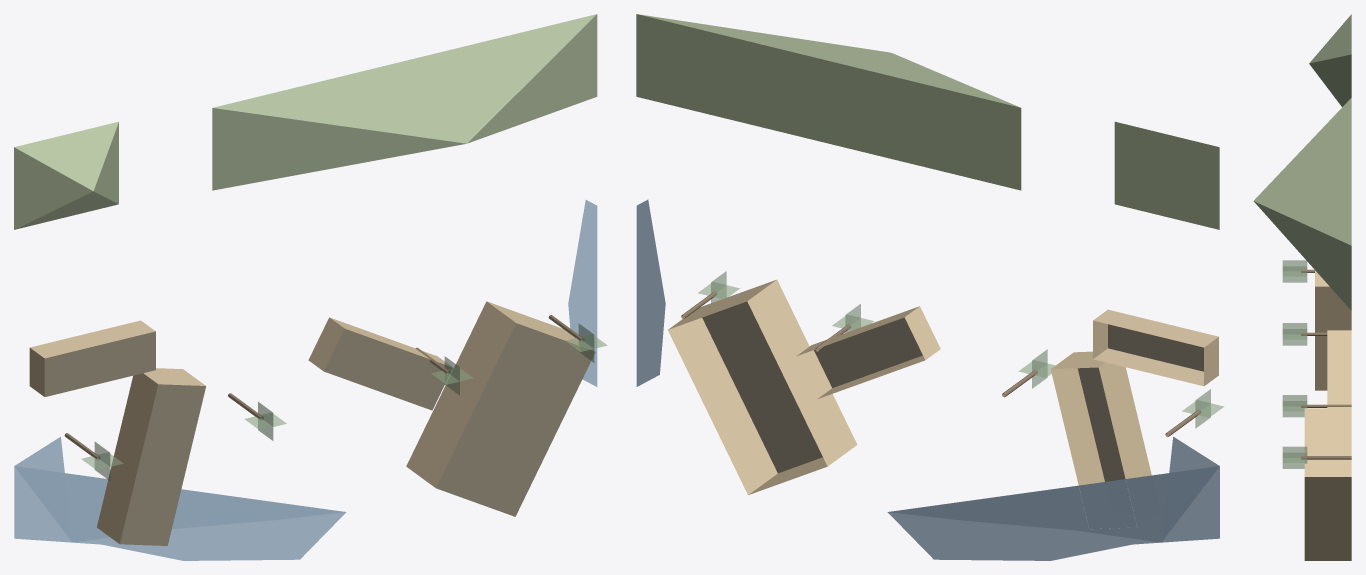
3 renders of one model, left to right at view 1: azimuth 30°, elevation 25°; view 2: azimuth 150°, elevation 25°; view 3: azimuth 270°, elevation 25°, orthographic. The views are drawn at different scales.
Parts seen in each view (by area): view 1: Mountain_01, House_02, Water_01, House_03, Mountain_02, House_04, House_01, Water_02, TreeMass_01, TreeMass_04, TreeMass_02, TreeMass_03; view 2: Mountain_01, House_02, Water_01, House_03, Mountain_02, House_04, House_01, Water_02, TreeMass_01, TreeMass_02, TreeMass_04; view 3: Mountain_01, House_02, House_03, Mountain_02, House_04, TreeMass_04, TreeMass_03, TreeMass_02, TreeMass_01.
Part boxes in pixels (bbox=[...]): Mountain_01: bbox=[212, 14, 597, 190]; House_02: bbox=[406, 301, 595, 516]; Water_01: bbox=[14, 436, 346, 560]; House_03: bbox=[97, 368, 206, 545]; Mountain_02: bbox=[14, 121, 118, 229]; House_04: bbox=[308, 317, 452, 410]; House_01: bbox=[29, 320, 155, 396]; Water_02: bbox=[568, 200, 597, 386]; TreeMass_01: bbox=[64, 433, 123, 480]; TreeMass_04: bbox=[548, 315, 607, 362]; TreeMass_02: bbox=[228, 393, 286, 440]; TreeMass_03: bbox=[415, 347, 472, 395]; Mountain_01: bbox=[636, 14, 1021, 190]; House_02: bbox=[668, 279, 857, 495]; Water_01: bbox=[887, 437, 1219, 560]; House_03: bbox=[1050, 351, 1151, 529]; Mountain_02: bbox=[1114, 121, 1219, 229]; House_04: bbox=[796, 306, 940, 399]; House_01: bbox=[1093, 309, 1218, 386]; Water_02: bbox=[636, 199, 665, 386]; TreeMass_01: bbox=[1165, 389, 1223, 436]; TreeMass_02: bbox=[1002, 349, 1055, 397]; TreeMass_04: bbox=[681, 271, 739, 318]; Mountain_01: bbox=[1253, 98, 1351, 310]; House_02: bbox=[1304, 408, 1351, 560]; House_03: bbox=[1315, 270, 1351, 390]; Mountain_02: bbox=[1309, 14, 1351, 106]; House_04: bbox=[1327, 330, 1351, 408]; TreeMass_04: bbox=[1282, 446, 1351, 468]; TreeMass_03: bbox=[1282, 395, 1351, 417]; TreeMass_02: bbox=[1282, 323, 1327, 345]; TreeMass_01: bbox=[1282, 260, 1314, 282].
Size of the model in its own units: 16.23 by 12.82 by 3.
